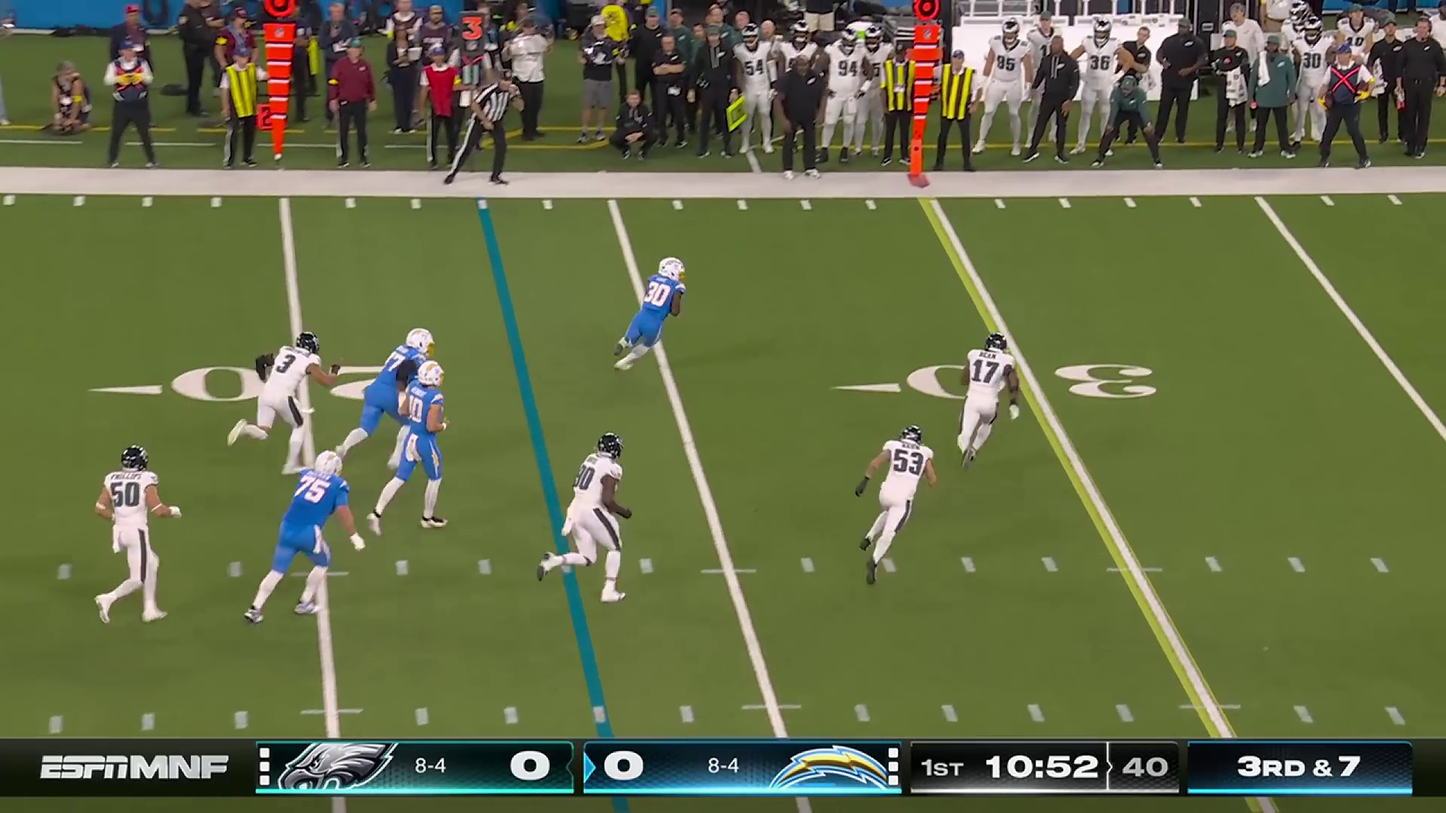player: (88, 420, 180, 625), (541, 427, 649, 598), (264, 446, 350, 626), (375, 356, 456, 541), (334, 327, 433, 465), (253, 327, 328, 483), (855, 423, 924, 584), (607, 257, 691, 373), (942, 326, 1010, 466)
